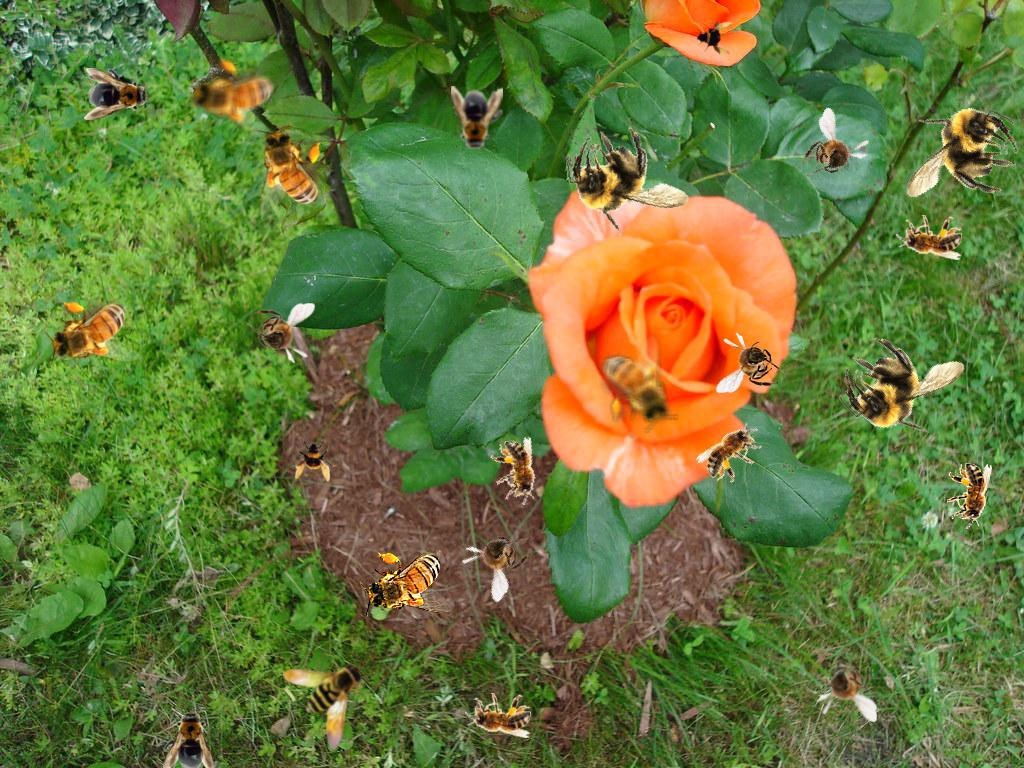Bee: (823, 305, 982, 462), (886, 82, 1024, 233), (561, 117, 694, 244), (178, 46, 292, 145), (593, 332, 681, 439), (451, 510, 544, 604), (790, 106, 879, 198), (283, 662, 365, 750), (256, 124, 324, 217), (45, 298, 138, 366), (360, 549, 453, 617), (694, 412, 772, 491), (486, 434, 548, 511), (816, 652, 877, 722), (245, 303, 315, 364), (716, 332, 786, 393), (451, 86, 503, 154), (84, 68, 152, 120), (163, 707, 215, 768), (896, 215, 962, 260), (465, 693, 531, 738), (947, 463, 992, 529), (293, 438, 337, 482), (691, 14, 735, 58)
